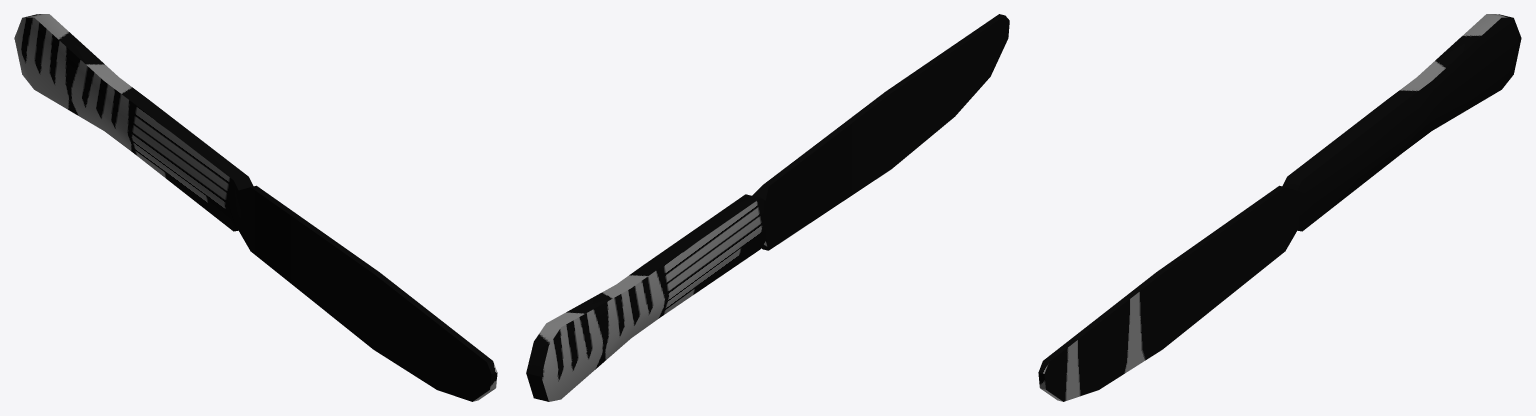
File: Knife.fbx
The picture shows the model from 3 angles, left to right: view 1: azimuth 30°, elevation 25°; view 2: azimuth 150°, elevation 25°; view 3: azimuth 330°, elevation 25°; orthographic projection.
Visible parts, largest first — view 1: Cube; view 2: Cube; view 3: Cube.
Part boxes in pixels (box(x1,y1,x2,y2)): Cube: box(14, 14, 497, 401); Cube: box(526, 14, 1009, 401); Cube: box(1038, 14, 1521, 401).
Size of the model in its own units: 0.8399 by 2.78 by 26.99.
Materials: 1 (1 with a texture image).
